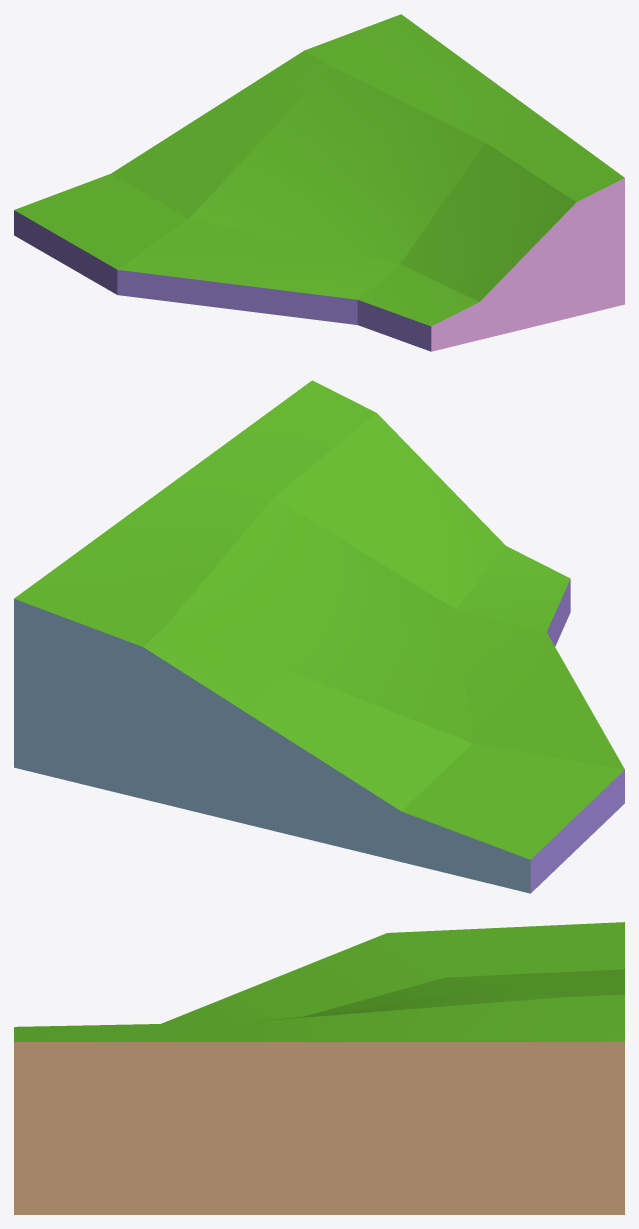
Rendered from Grass_Hill_Grade_Transition_Straight_Rear_3x4.glb.
The picture shows the model from 3 angles, top to bottom: view 1: azimuth 30°, elevation 25°; view 2: azimuth 150°, elevation 25°; view 3: azimuth 270°, elevation 25°; orthographic projection. The views are drawn at different scales.
Visible parts, largest first — view 1: Grass_Hill_Grade_Transition_Straight_Rear_3x4; view 2: Grass_Hill_Grade_Transition_Straight_Rear_3x4; view 3: Grass_Hill_Grade_Transition_Straight_Rear_3x4.
Boxes of the visible parts, x1=… form: Grass_Hill_Grade_Transition_Straight_Rear_3x4: x1=14, y1=14, x2=624, y2=351; Grass_Hill_Grade_Transition_Straight_Rear_3x4: x1=14, y1=380, x2=624, y2=893; Grass_Hill_Grade_Transition_Straight_Rear_3x4: x1=14, y1=922, x2=624, y2=1214.
Size of the model in its own units: 400 by 125 by 400.
